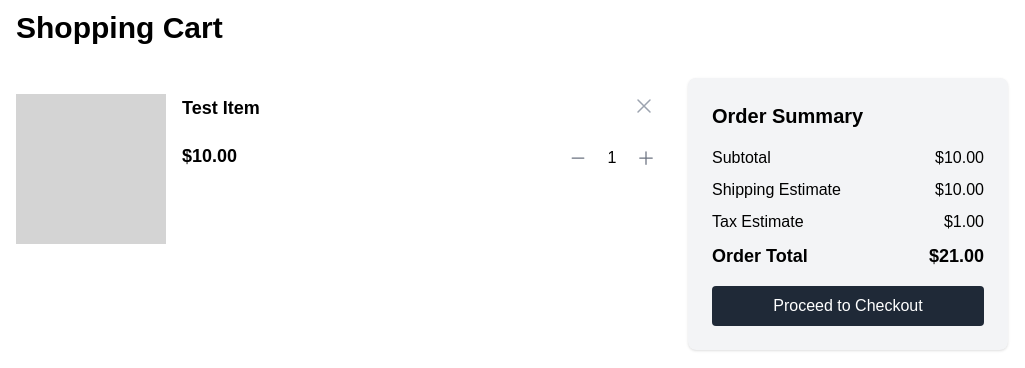
Test case: CartContents Integration › Given a cart with an item, When increase two times the item quantity and decrease one time, Then it should update the quantity and price
Click the button with test id "increase-quantity-button".
click(646, 158)  # box [636,148,656,168]
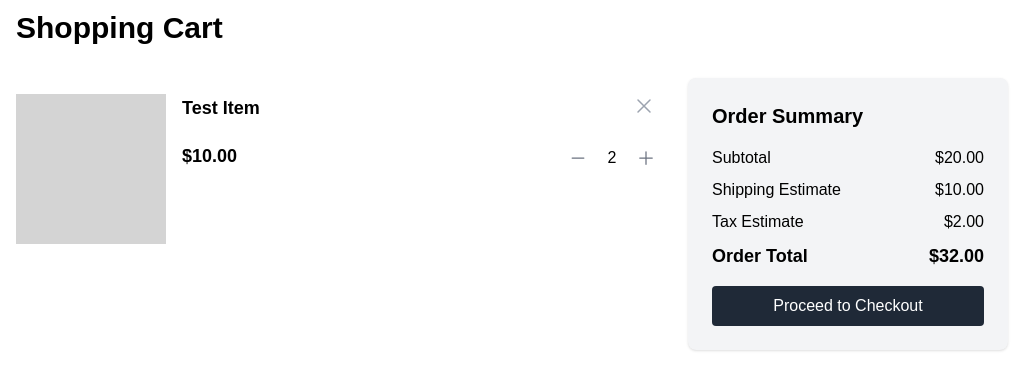
Click the button with test id "increase-quantity-button".
click(646, 158)  # box [636,148,656,168]
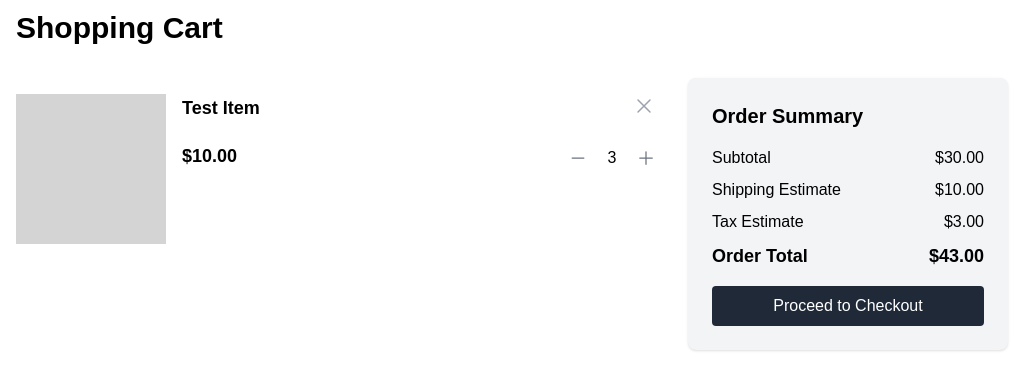
Click the button with test id "decrease-quantity-button".
click(578, 158)  # box [568,148,588,168]
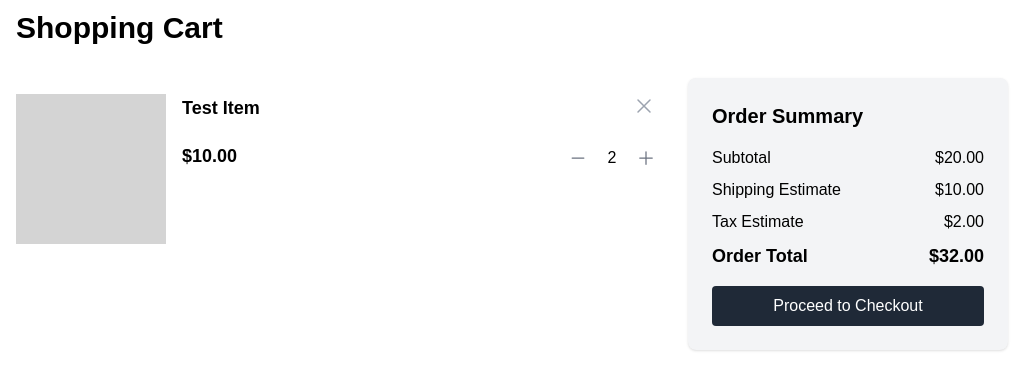
Check: the text with test id "item-quantity" reads "2", box [608,149,616,166]
Check: the element with test id "subtotal" shows "$20.00", box [935,149,984,166]
